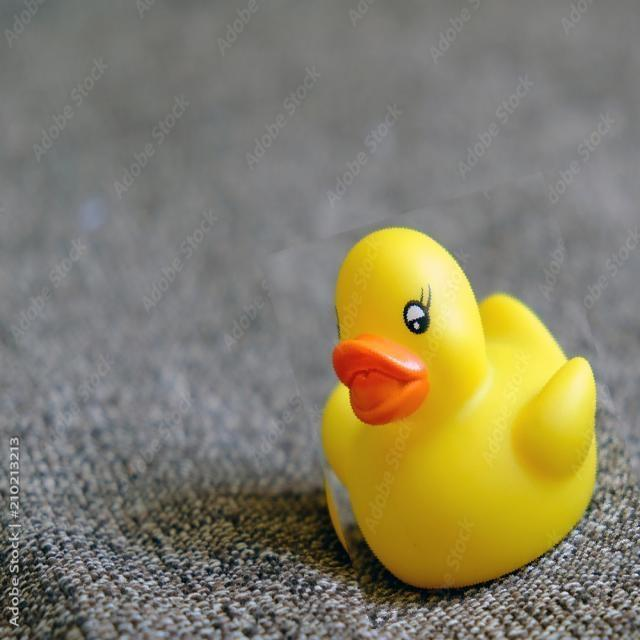rubber-duck: (321, 227, 595, 586)
